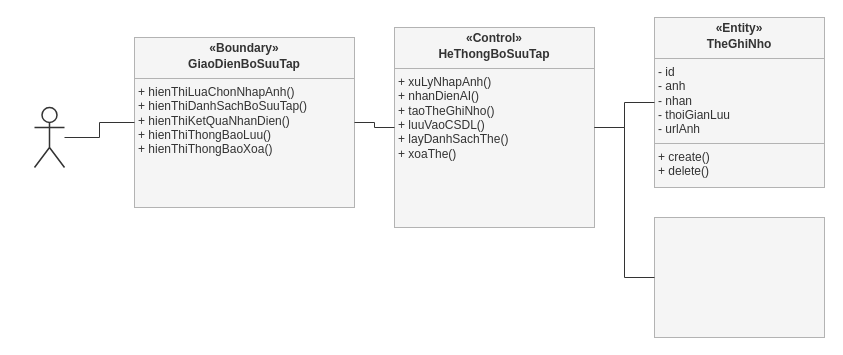
Some shapes in this 843 by 355 pixel diagram are drawn without their labels. Each missing label, with the centre of its shape:
"Người dùng" belongs at [49,137].
"«Control» AIModelNhanDien - modelVersion - accuracy + predict(image)" belongs at [739,277].
